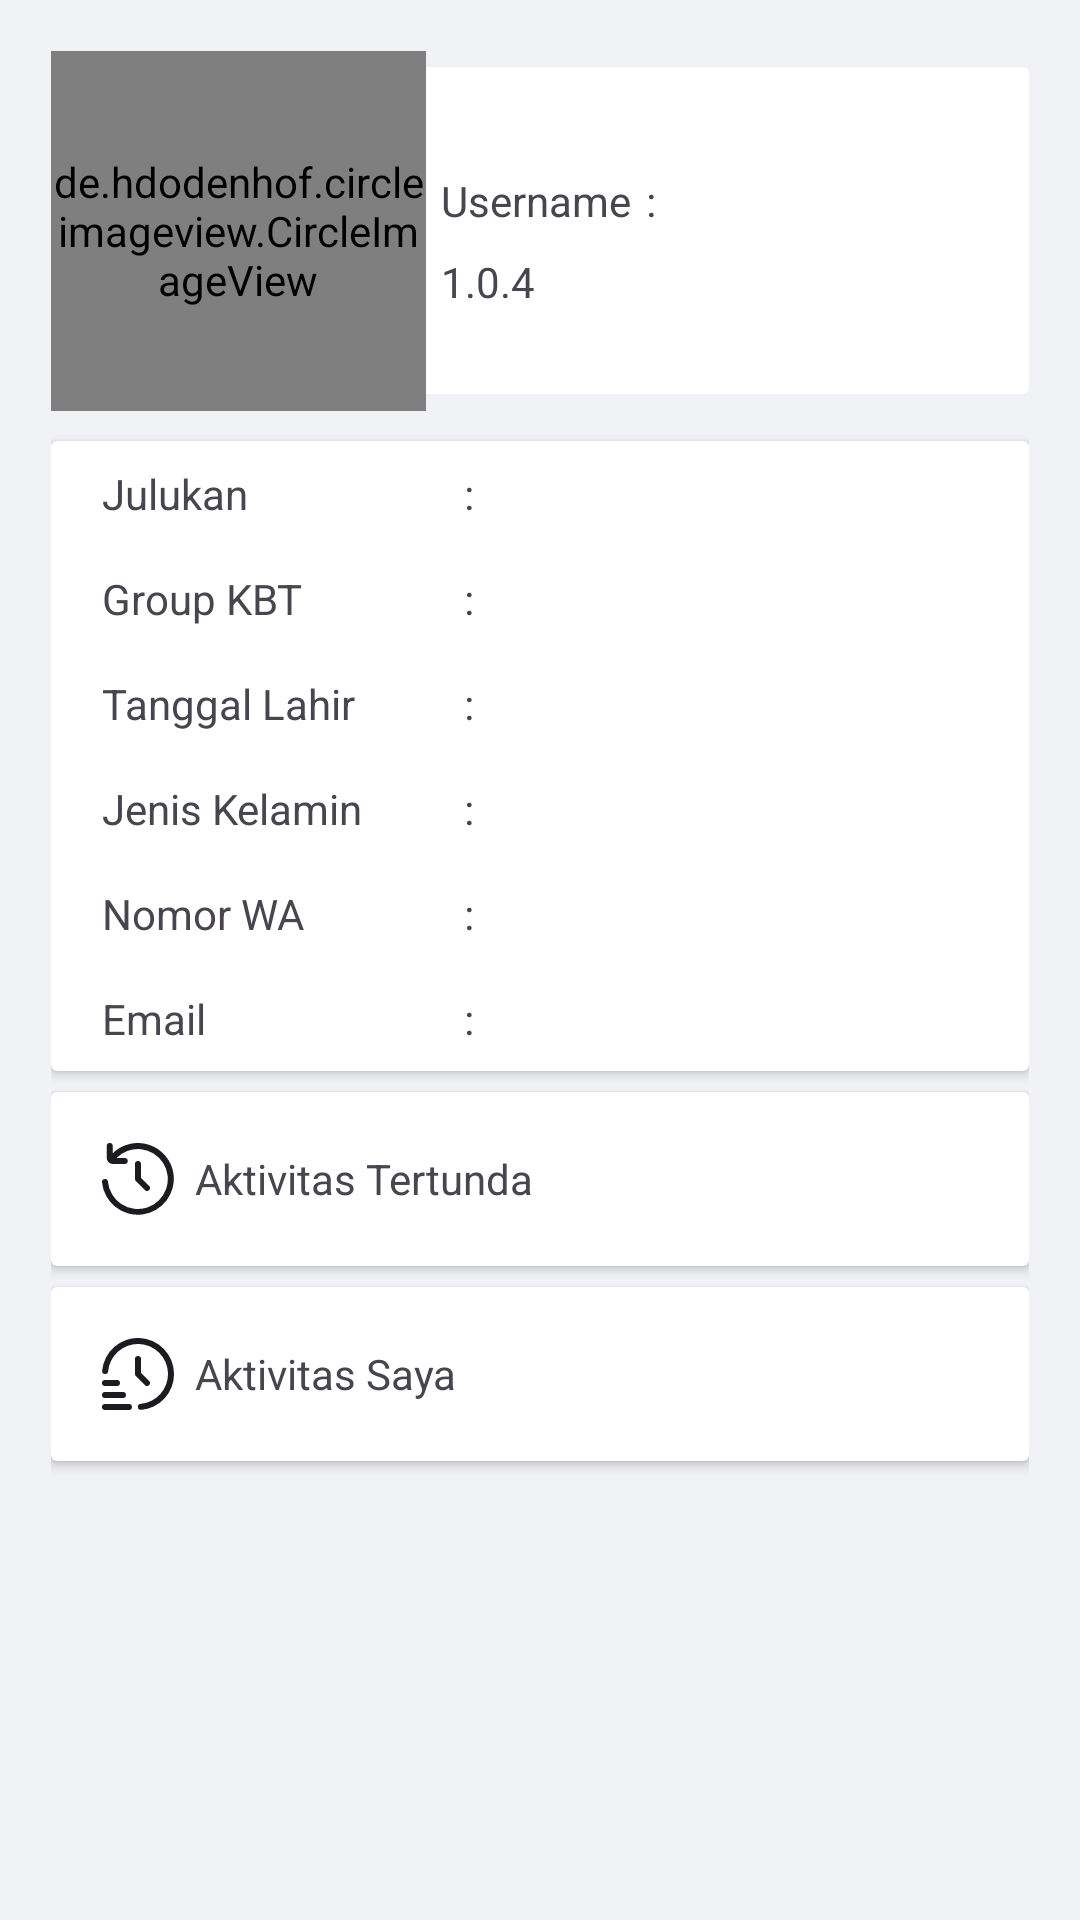

Icon bounding boxes for this 1080 × 1920 phone screenshot, format box(x1, y1, x2, y2):
activity panding: box(102, 1143, 174, 1215)
